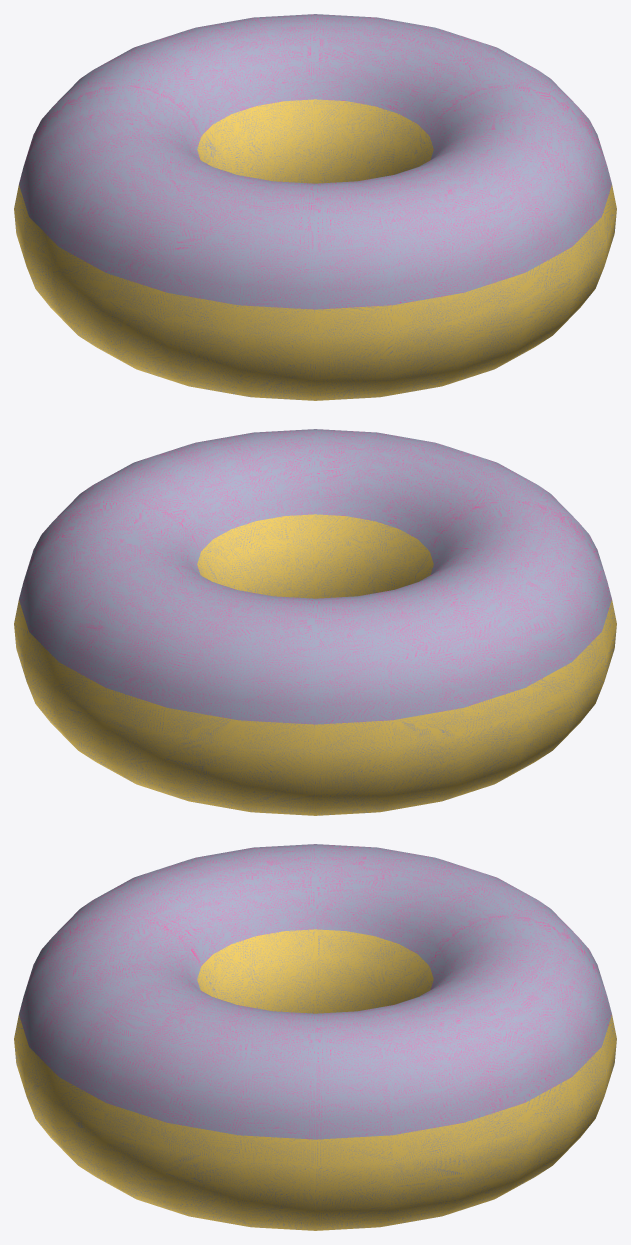
File: Donut_3.fbx
3 views of the same model, one above another, from view 1: azimuth 30°, elevation 25°; view 2: azimuth 150°, elevation 25°; view 3: azimuth 270°, elevation 25° (orthographic).
Parts seen in each view (by area): view 1: Model; view 2: Model; view 3: Model.
Boxes of the visible parts, <box> form: Model: <box>14,14,616,400</box>; Model: <box>14,429,616,815</box>; Model: <box>14,844,616,1230</box>.
Size of the model in its own units: 37.68 by 13.85 by 37.68.
